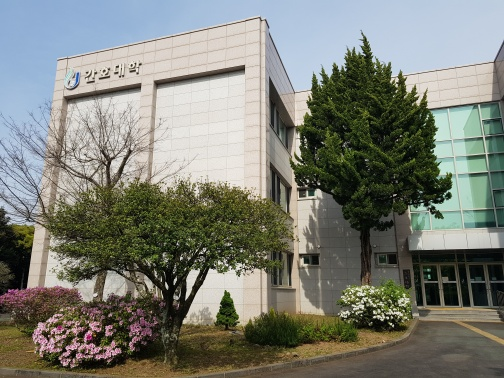College of Nursing: (40, 14, 494, 327)
